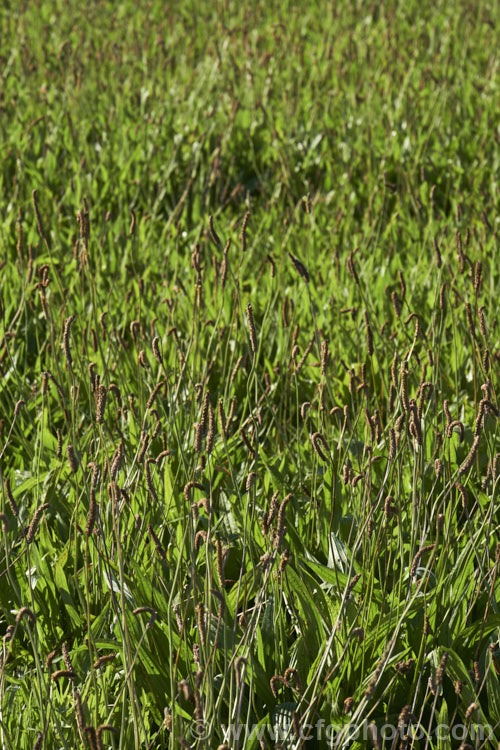buckhorn plantain: (42, 197, 493, 709)
